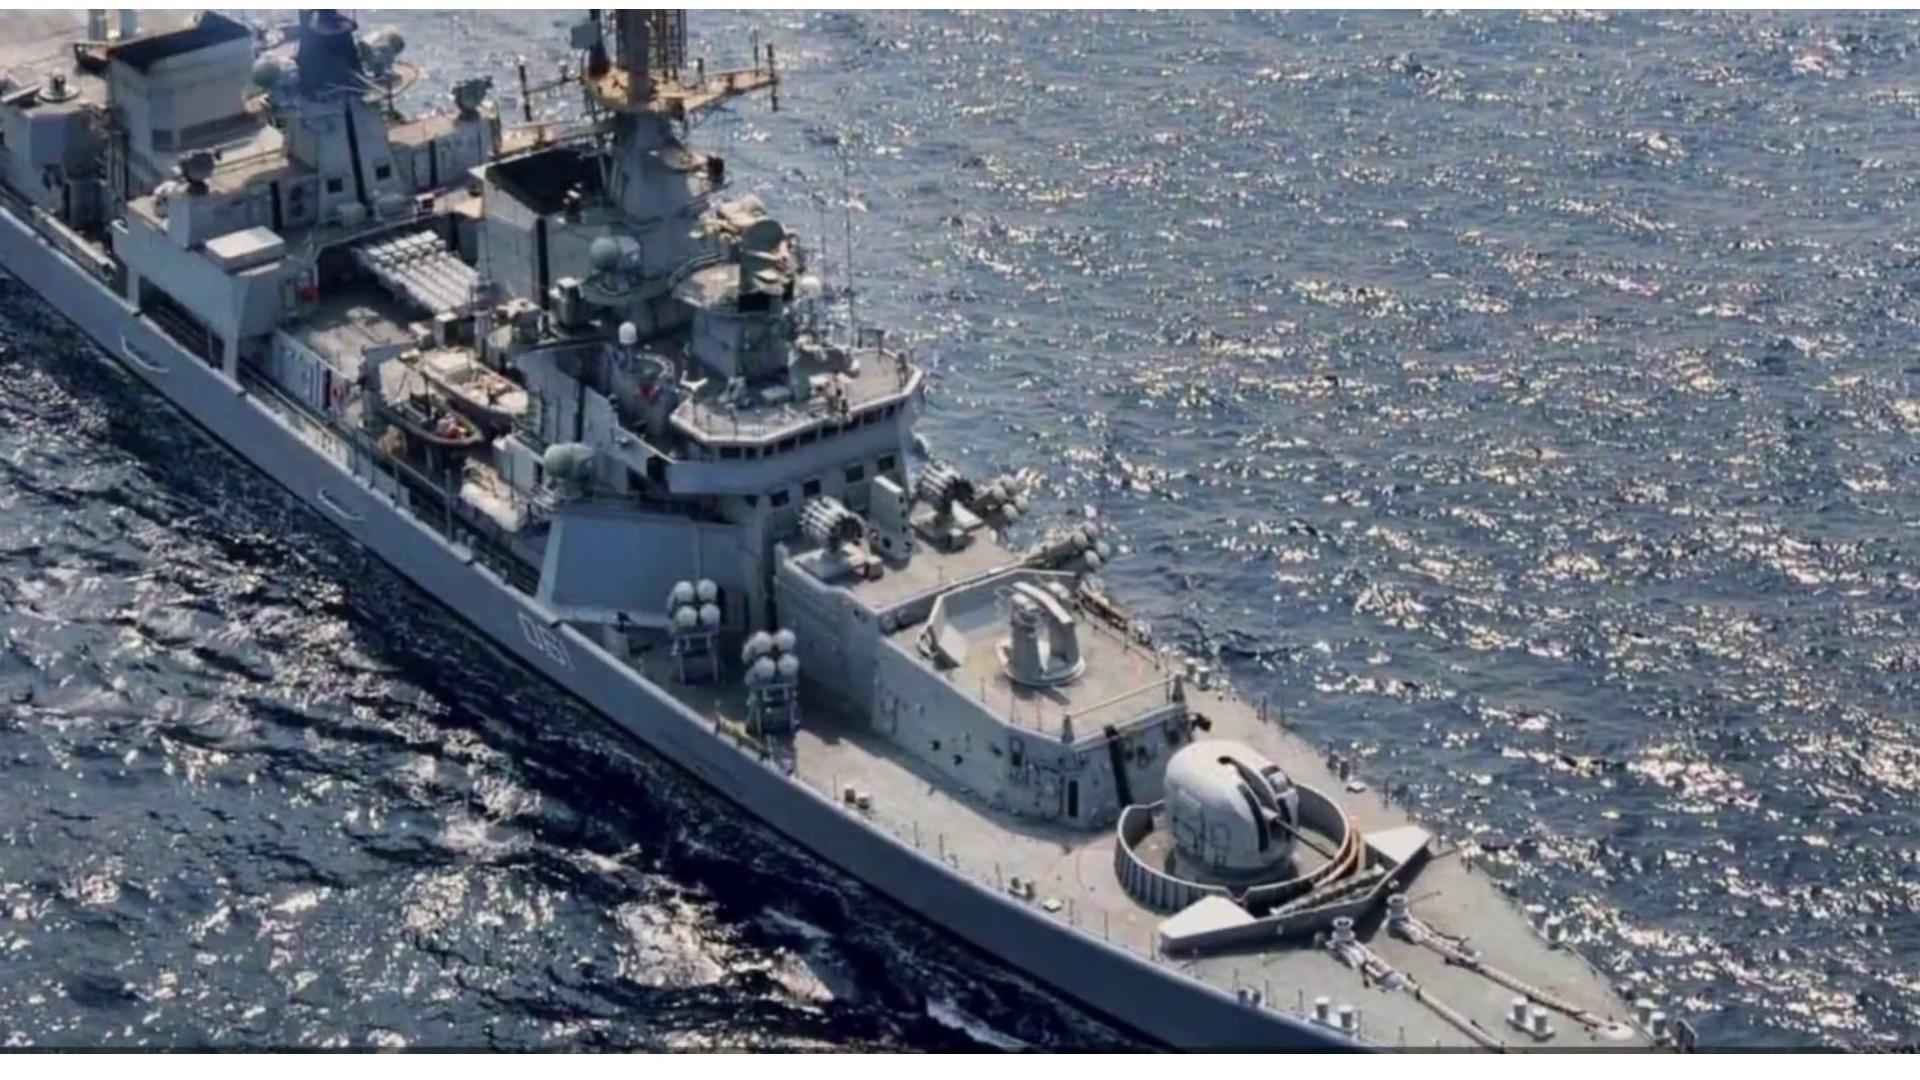OCR: (506, 601, 585, 683)
